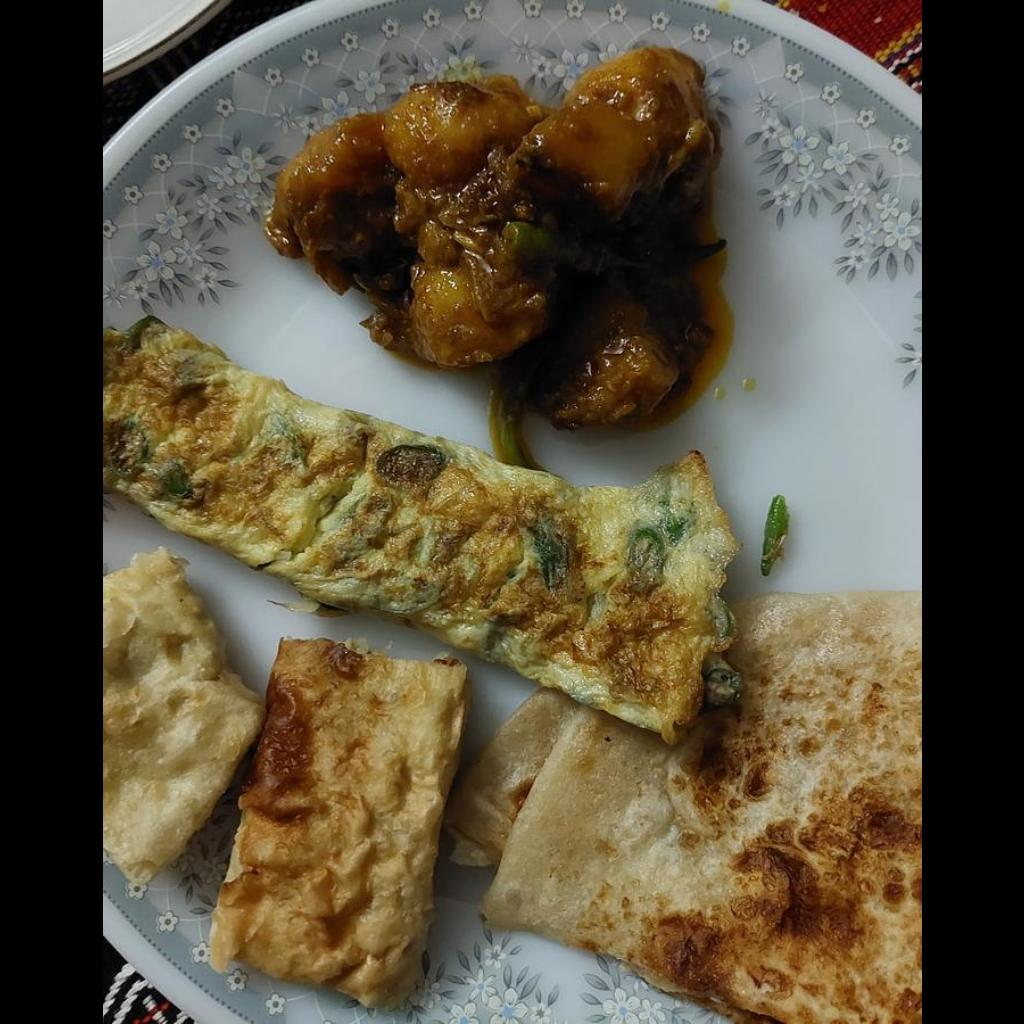egg-poached: (104, 322, 742, 732)
potato: (260, 57, 726, 441)
puri: (104, 548, 461, 1010)
ruti: (448, 590, 920, 1020)
